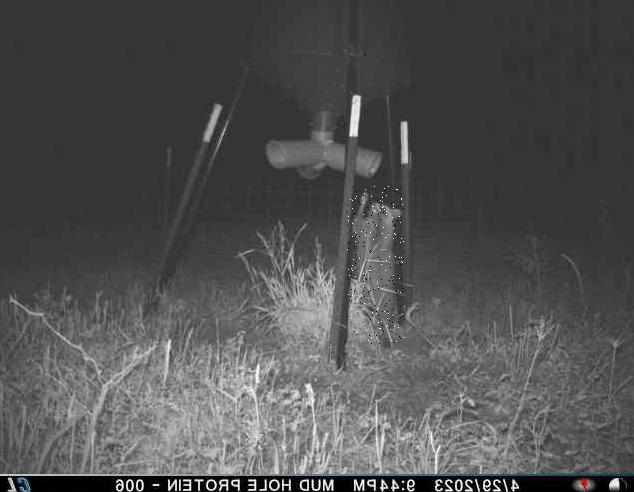Raccoon: (347, 187, 405, 345)
